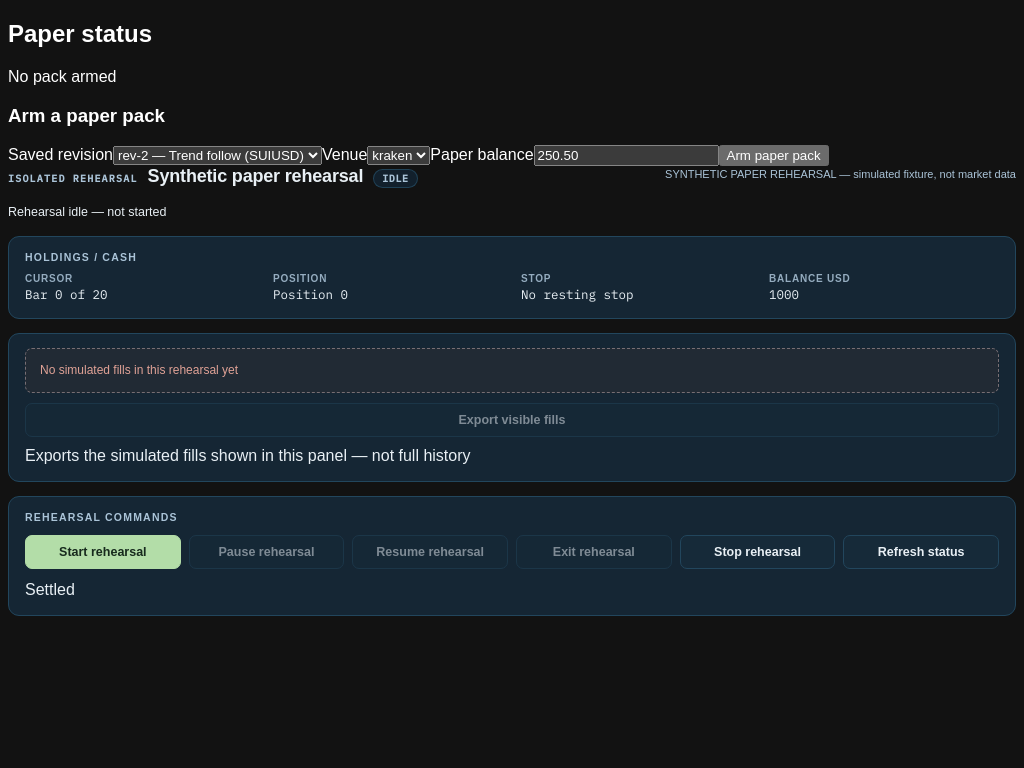
Scenario: StatusPanel paper arm tracer (primary user-action path) › keeps the Arm control disabled while the arm command is pending and re-enables after a refusal
Select "rev-2 — Trend follow (SUIUSD)" in the dropdown with test id "paper-arm-revision" at (218, 156), box [113,146,322,165]
Replace the text in the field with test id "paper-arm-balance" with "100" at (626, 156), box [534,145,718,166]
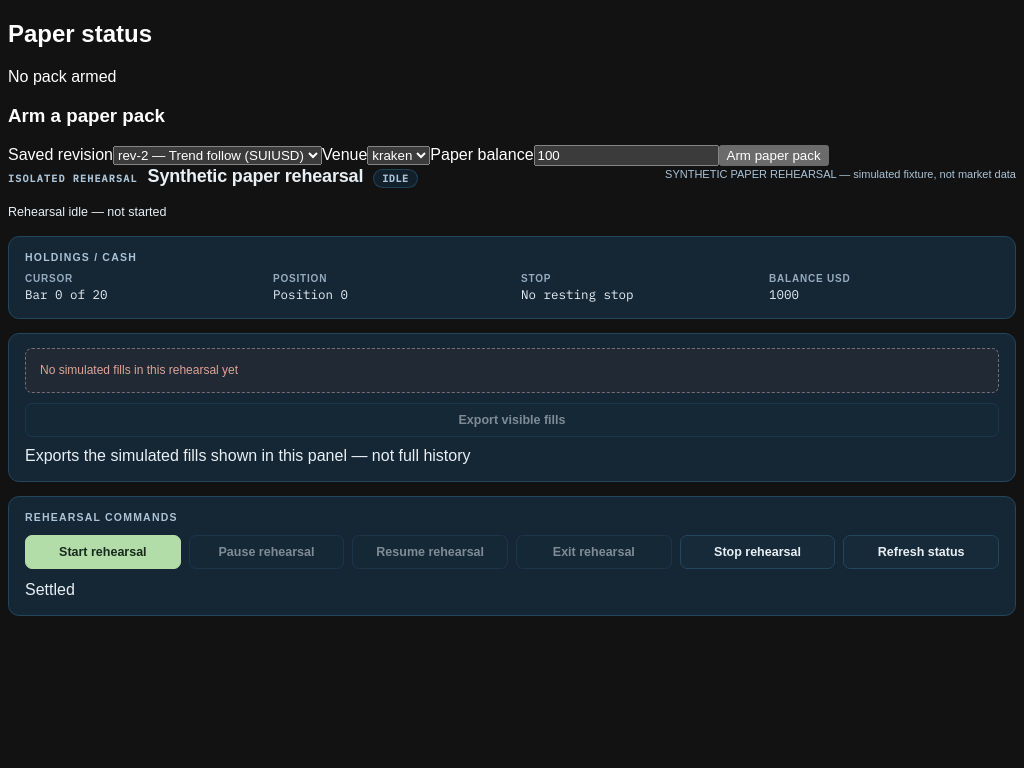
Click the button "Arm paper pack" at (774, 156), box [718,145,829,166]
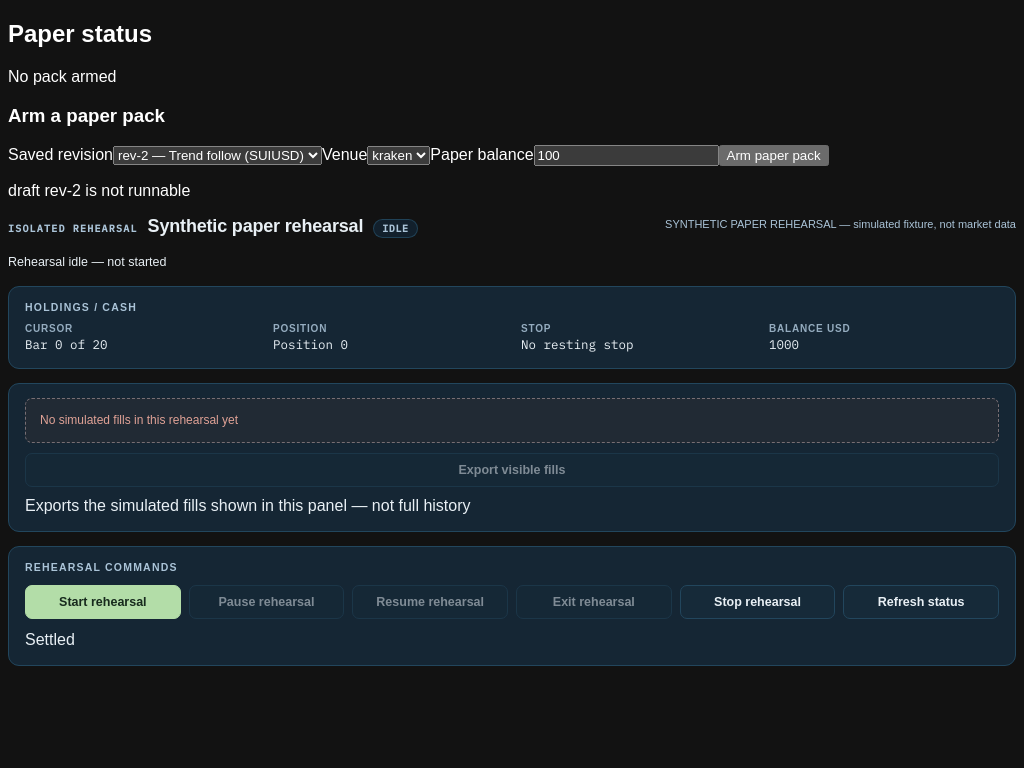
Expected: the message with test id "paper-arm-error" reads "draft rev-2 is not runnable", [8,182,190,199]
